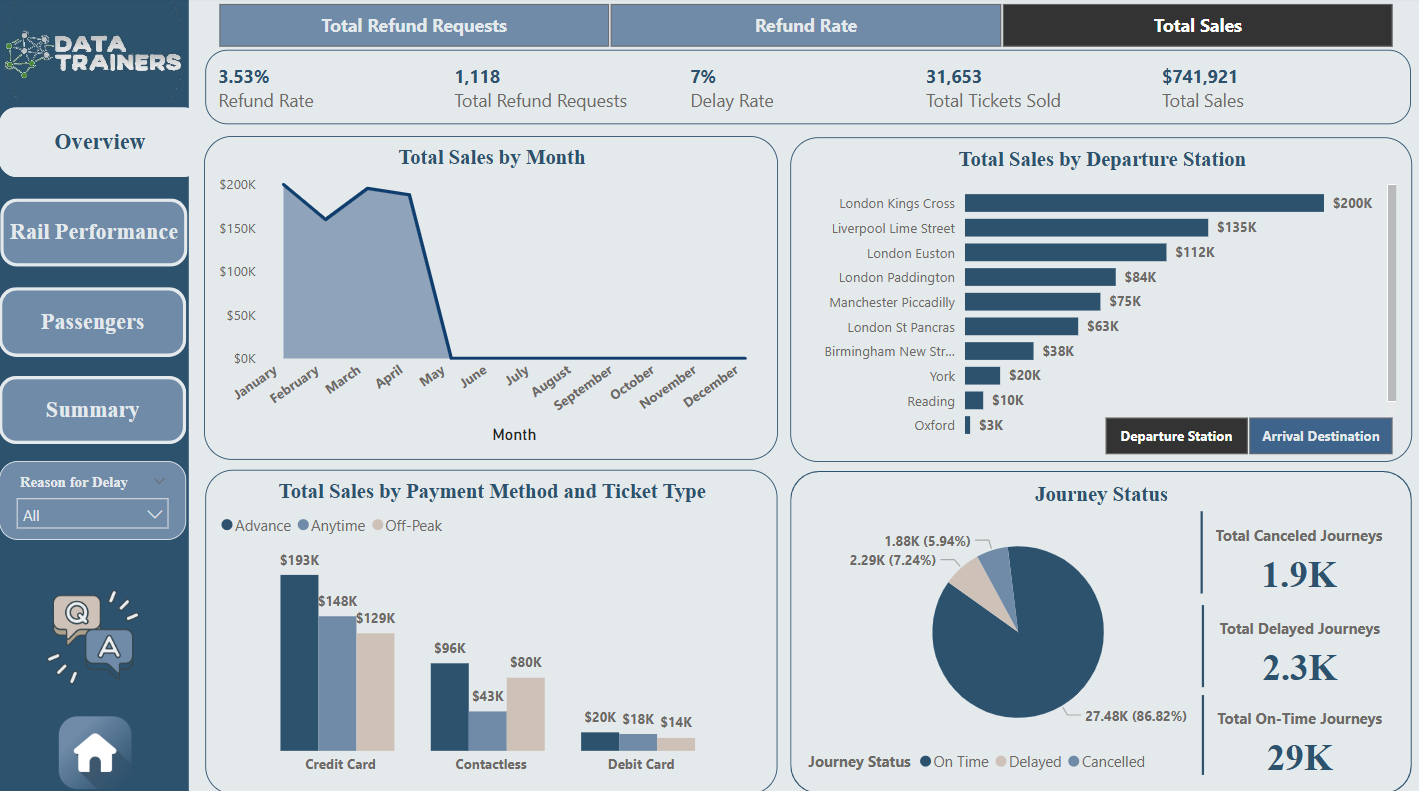

This screenshot's page, from the dashboard's own definition file:
{"tool":"powerbi","page":{"name":"Overview","canvas":[1280,720],"ordinal":1},"visuals":[{"type":"multiRowCard","fields":{"Values":["_Measures.Refund Rate","_Measures.Total Refund Requests","_Measures.Delay Rate","_Measures.Total Tickets Sold","_Measures.Total Sales"]},"box":[186,48.8,1087.2,67.4],"z":0},{"type":"lineChart","fields":{"Y":["_Measures.Total Sales"],"Category":["Dim_Calendar.Date.Variation.Date Hierarchy.Year","Dim_Calendar.Date.Variation.Date Hierarchy.Quarter","Dim_Calendar.Date.Variation.Date Hierarchy.Month","Dim_Calendar.Date.Variation.Date Hierarchy.Day"]},"box":[184.9,126.7,517.4,291.9],"z":1000},{"type":"shape","box":[0,0,171.2,720.2],"z":2000},{"type":"slicer","fields":{"Values":["Dim_Delay.Reason for Delay"]},"box":[0,419.8,168.6,70.9],"z":3000},{"type":"slicer","fields":{"Values":["Parameter.Parameter"]},"box":[172,0,1108.3,52.2],"z":4000},{"type":"clusteredColumnChart","fields":{"Y":["_Measures.Total Sales"],"Category":["Dim_Payment.Payment Method"],"Series":["Dim_Ticket.Ticket Type"]},"box":[185.7,427.1,515.7,292.9],"z":5000},{"type":"clusteredBarChart","fields":{"Category":["Dim_Departure.Departure Station"],"Y":["_Measures.Total Sales"]},"box":[713.4,126.8,561,292.7],"z":6000},{"type":"slicer","fields":{"Values":["Departure Arrival.Departure Arrival"]},"box":[971.4,372.9,308.6,47.1],"z":7000},{"type":"shape","box":[713.4,428,561,291.5],"z":8000},{"type":"pieChart","fields":{"Category":["Fact_Transaction.Journey Status"],"Y":["CountNonNull(Fact_Transaction.Transaction ID)"]},"box":[725,467.5,388.8,241.2],"z":9000},{"type":"cardVisual","fields":{"Data":["_Measures.Total Canceled Journeys"]},"box":[1079.1,459.3,187.2,84.9],"z":10000},{"type":"cardVisual","fields":{"Data":["_Measures.Total Delayed Journeys"]},"box":[1079.3,543.9,186.6,84.1],"z":11000},{"type":"cardVisual","fields":{"Data":["_Measures.Total On-Time Journeys"]},"box":[1079.3,625.6,186.6,82.9],"z":12000},{"type":"image","box":[0,0,171.3,100.3],"z":13000},{"type":"image","box":[1.4,644.3,171.4,75.7],"z":14000},{"type":"actionButton","box":[0,342.9,169,61.4],"z":15000},{"type":"actionButton","box":[0,262.9,169,62.9],"z":16000},{"type":"actionButton","box":[1.4,182.9,169,61.4],"z":17000},{"type":"actionButton","box":[0,100,182,62.9],"z":18000},{"type":"image","box":[0,531.4,170,94.3],"z":19000}]}

Visuals, with their boxes in screenshot pixels (x1, y1, x2, y2), scaled from the page's 1280x720 canvas onto the 1419x791 screenshot:
multiRowCard - _Measures.Refund Rate x _Measures.Total Refund Requests: [x1=206, y1=54, x2=1411, y2=128]
lineChart - _Measures.Total Sales x Dim_Calendar.Date.Variation.Date Hierarchy.Year: [x1=205, y1=139, x2=779, y2=460]
shape: [x1=0, y1=0, x2=190, y2=790]
slicer - Dim_Delay.Reason for Delay: [x1=0, y1=461, x2=187, y2=539]
slicer - Parameter.Parameter: [x1=191, y1=0, x2=1418, y2=57]
clusteredColumnChart - _Measures.Total Sales x Dim_Payment.Payment Method: [x1=206, y1=469, x2=778, y2=790]
clusteredBarChart - Dim_Departure.Departure Station x _Measures.Total Sales: [x1=791, y1=139, x2=1413, y2=461]
slicer - Departure Arrival.Departure Arrival: [x1=1077, y1=410, x2=1418, y2=461]
shape: [x1=791, y1=470, x2=1413, y2=790]
pieChart - Fact_Transaction.Journey Status x CountNonNull(Fact_Transaction.Transaction ID): [x1=804, y1=514, x2=1235, y2=779]
cardVisual - _Measures.Total Canceled Journeys: [x1=1196, y1=505, x2=1404, y2=598]
cardVisual - _Measures.Total Delayed Journeys: [x1=1197, y1=598, x2=1403, y2=690]
cardVisual - _Measures.Total On-Time Journeys: [x1=1197, y1=687, x2=1403, y2=778]
image: [x1=0, y1=0, x2=190, y2=110]
image: [x1=2, y1=708, x2=192, y2=790]
actionButton: [x1=0, y1=377, x2=187, y2=444]
actionButton: [x1=0, y1=289, x2=187, y2=358]
actionButton: [x1=2, y1=201, x2=189, y2=268]
actionButton: [x1=0, y1=110, x2=202, y2=179]
image: [x1=0, y1=584, x2=188, y2=687]
